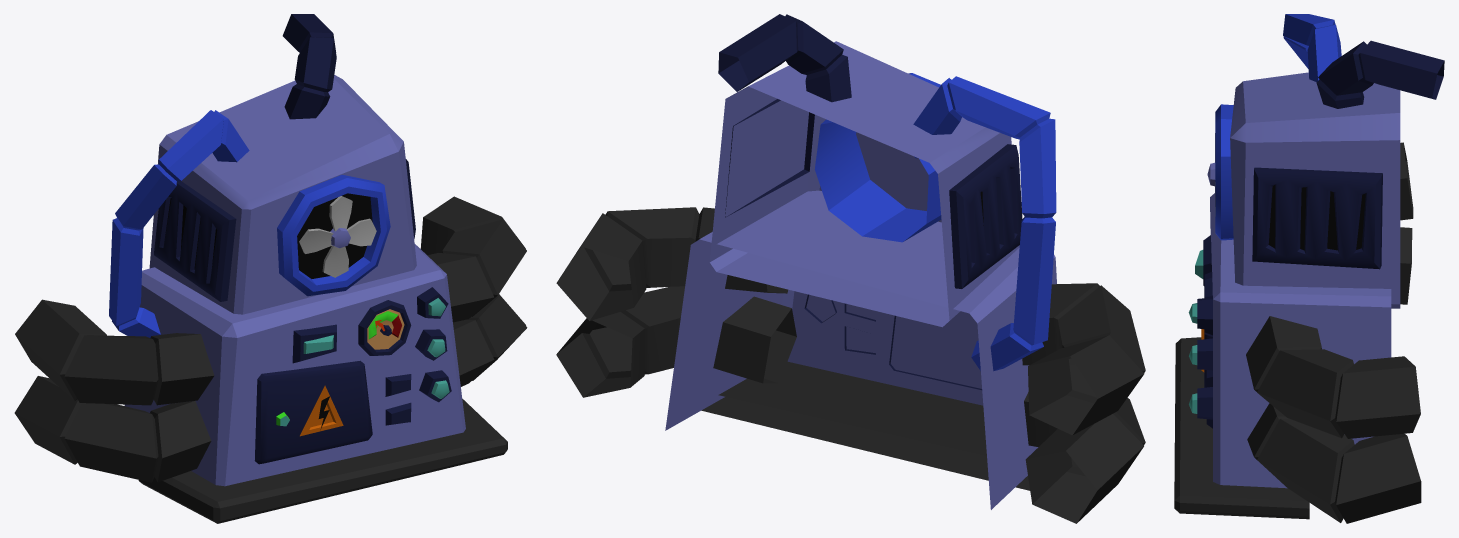
The model's file is MDL_Ventilador.FBX.
3 views of the same model, side by side, from view 1: azimuth 30°, elevation 25°; view 2: azimuth 150°, elevation 25°; view 3: azimuth 270°, elevation 25° (orthographic). The views are drawn at different scales.
Visible parts, largest first — view 1: Box004; view 2: Box004; view 3: Box004.
Part boxes in pixels (x1,y1,x2,y2): Box004: [14, 14, 527, 523]; Box004: [556, 14, 1145, 523]; Box004: [1174, 14, 1444, 523].
Size of the model in its own units: 164 by 125 by 73.77.
